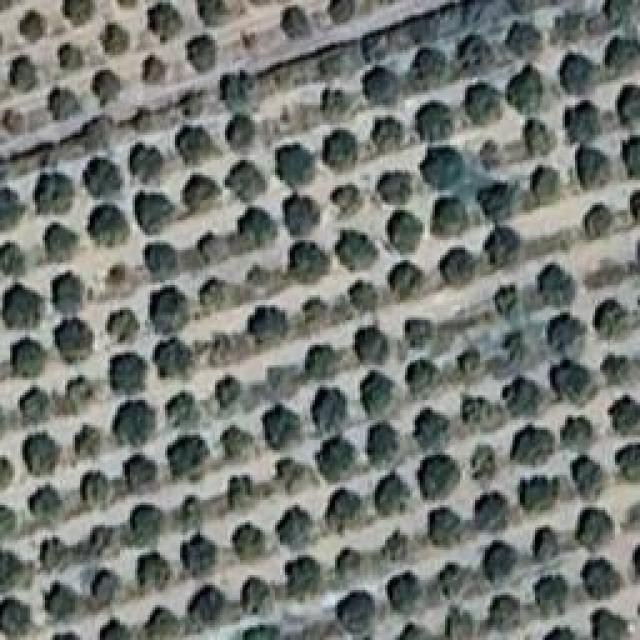Tree: (550, 360, 599, 406), (113, 400, 156, 446), (418, 455, 461, 501), (315, 435, 356, 482), (150, 285, 190, 333), (507, 65, 545, 115), (420, 148, 463, 191), (510, 425, 554, 467), (3, 283, 43, 329), (55, 318, 94, 364), (88, 205, 129, 248), (335, 230, 378, 271), (262, 405, 300, 451), (225, 160, 266, 202), (135, 193, 175, 236), (175, 125, 218, 165), (548, 314, 587, 358), (275, 505, 313, 550), (325, 487, 363, 532), (537, 262, 575, 307), (275, 145, 314, 188), (575, 508, 614, 551), (465, 83, 503, 127), (412, 408, 450, 452), (275, 458, 320, 495), (313, 388, 348, 435), (360, 370, 395, 417), (168, 438, 209, 478), (290, 243, 330, 284), (110, 353, 149, 395), (338, 593, 377, 635), (583, 558, 622, 600), (22, 433, 60, 476), (387, 210, 425, 253), (180, 532, 216, 577), (375, 472, 411, 517), (83, 158, 123, 198), (153, 338, 193, 378), (238, 207, 278, 247), (282, 195, 320, 237), (485, 225, 523, 267), (463, 395, 506, 432), (183, 175, 222, 215), (503, 378, 542, 418), (415, 103, 453, 144), (285, 555, 321, 598), (248, 308, 288, 346), (432, 198, 470, 238), (477, 184, 515, 224), (457, 36, 495, 76), (388, 573, 424, 615), (565, 100, 600, 143), (323, 130, 358, 172), (483, 540, 518, 582), (535, 575, 570, 617), (578, 145, 612, 188), (368, 424, 401, 468), (187, 585, 225, 623), (38, 174, 74, 214), (408, 54, 444, 94), (220, 70, 255, 111), (130, 505, 164, 547), (560, 53, 594, 95), (573, 455, 604, 501), (363, 68, 399, 107), (148, 2, 183, 42), (130, 144, 165, 184), (13, 337, 48, 377), (28, 485, 63, 525), (593, 297, 628, 337), (53, 273, 86, 315), (388, 263, 424, 301), (440, 247, 476, 285), (505, 23, 543, 59), (520, 478, 558, 514), (138, 552, 172, 592), (428, 508, 462, 548), (123, 455, 158, 493), (607, 395, 640, 435), (605, 38, 640, 75), (45, 583, 79, 621), (370, 115, 404, 153), (523, 118, 557, 156), (45, 223, 78, 262), (233, 523, 267, 560), (145, 243, 178, 281), (405, 358, 439, 394), (475, 495, 508, 532), (165, 394, 200, 428), (268, 365, 302, 400), (305, 345, 338, 381), (145, 607, 180, 640), (490, 595, 521, 632), (188, 35, 218, 73), (0, 598, 30, 636), (20, 388, 50, 426), (48, 88, 82, 121), (108, 310, 142, 343), (378, 173, 413, 205), (355, 328, 386, 364), (563, 418, 594, 454), (83, 473, 113, 510), (225, 113, 255, 150), (530, 165, 559, 203), (220, 425, 253, 458), (330, 185, 363, 218), (93, 70, 123, 106), (0, 188, 25, 231), (243, 578, 272, 615), (198, 233, 231, 265), (583, 205, 613, 240), (438, 562, 468, 597), (10, 55, 39, 91), (65, 375, 94, 411), (617, 85, 640, 130), (600, 353, 631, 386), (200, 277, 229, 312), (92, 570, 120, 606), (40, 538, 70, 571), (593, 610, 626, 640), (0, 550, 24, 591), (348, 280, 378, 312), (283, 8, 313, 40), (320, 88, 350, 120), (83, 118, 111, 152), (498, 327, 526, 361), (615, 442, 640, 480), (100, 23, 129, 55), (75, 425, 103, 458), (215, 375, 241, 410), (493, 285, 519, 320), (533, 527, 559, 562), (20, 10, 48, 42), (445, 607, 472, 640), (0, 242, 25, 277), (180, 495, 204, 531), (473, 445, 497, 481), (230, 475, 254, 510), (405, 320, 433, 350), (383, 530, 409, 562), (605, 0, 632, 27), (65, 0, 93, 26), (335, 548, 361, 576), (90, 527, 114, 557), (622, 138, 640, 178), (480, 140, 503, 171), (198, 0, 225, 26), (58, 43, 83, 70), (303, 298, 328, 325), (143, 55, 167, 83), (398, 623, 437, 640), (100, 620, 133, 640), (180, 93, 205, 119), (458, 348, 482, 375), (328, 0, 355, 23), (243, 625, 283, 640), (248, 265, 273, 287), (3, 110, 24, 135), (133, 108, 154, 131), (623, 503, 640, 531), (3, 505, 17, 538), (542, 627, 577, 640), (0, 458, 13, 490), (105, 263, 122, 285), (630, 190, 640, 223)
